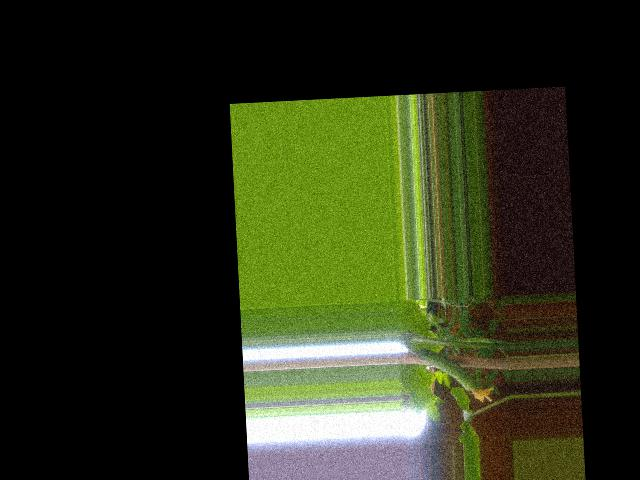cucumber: (418, 346, 494, 406)
